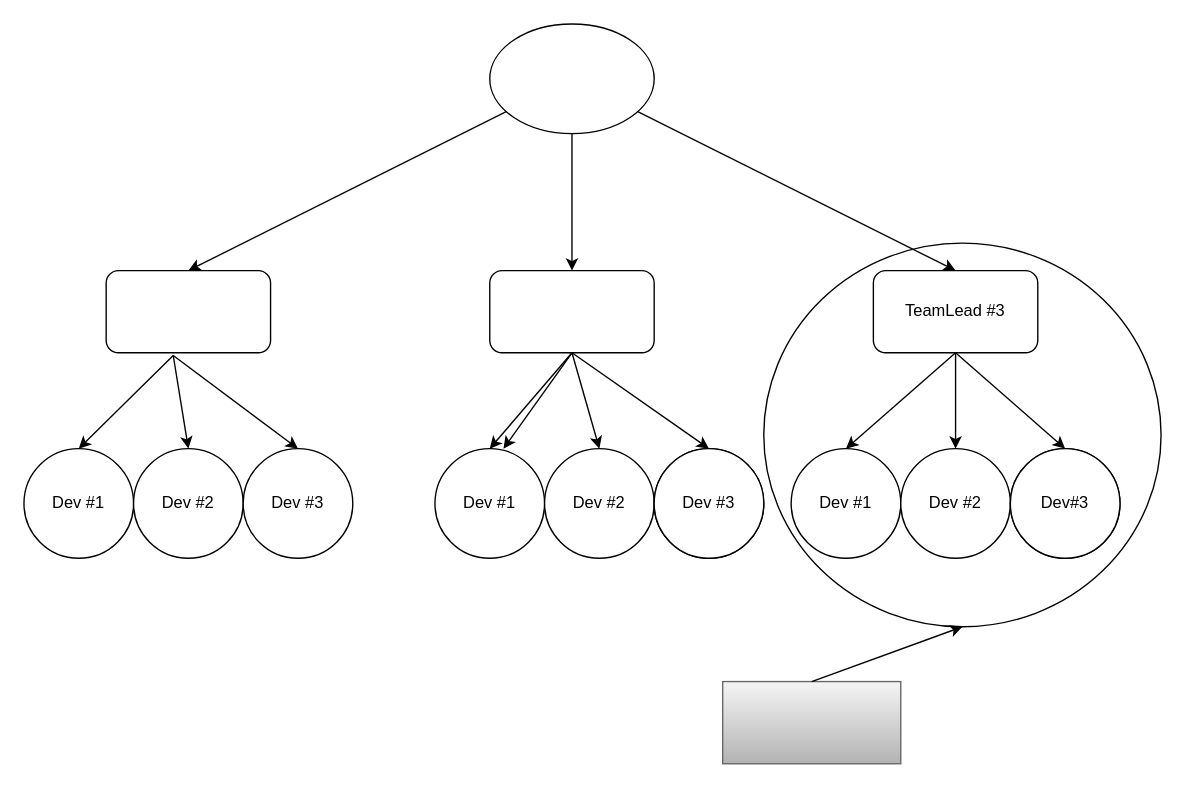
Some shapes in this 1185 by 788 pixel diagram are drawn without their labels. Here are the shapes that lost their labels. From the top down, the centre of each, then its label:
At (x=571, y=78): "Manager".
At (x=188, y=311): "TeamLead #1".
At (x=571, y=311): "TeamLead #2".
At (x=811, y=722): "This is a Team".
